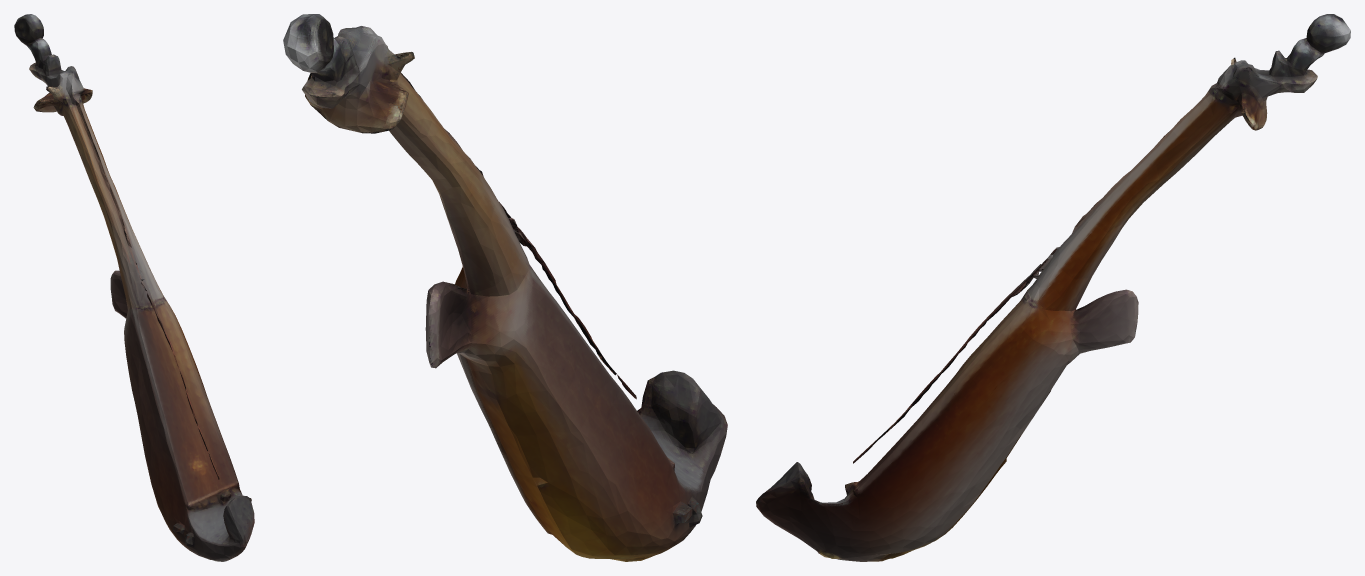
The model's file is sumatera-utara.glb.
3 renders of one model, left to right at view 1: azimuth 30°, elevation 25°; view 2: azimuth 150°, elevation 25°; view 3: azimuth 270°, elevation 25°, orthographic. The views are drawn at different scales.
Parts seen in each view (by area): view 1: world; view 2: world; view 3: world.
Part boxes in pixels (x1,y1,x2,y2): world: (14,14,254,561); world: (283,14,727,561); world: (756,14,1350,561).
Bounding box in the file's own units: 0.1059 × 0.6157 × 0.618.
1 material, 1 textured.
